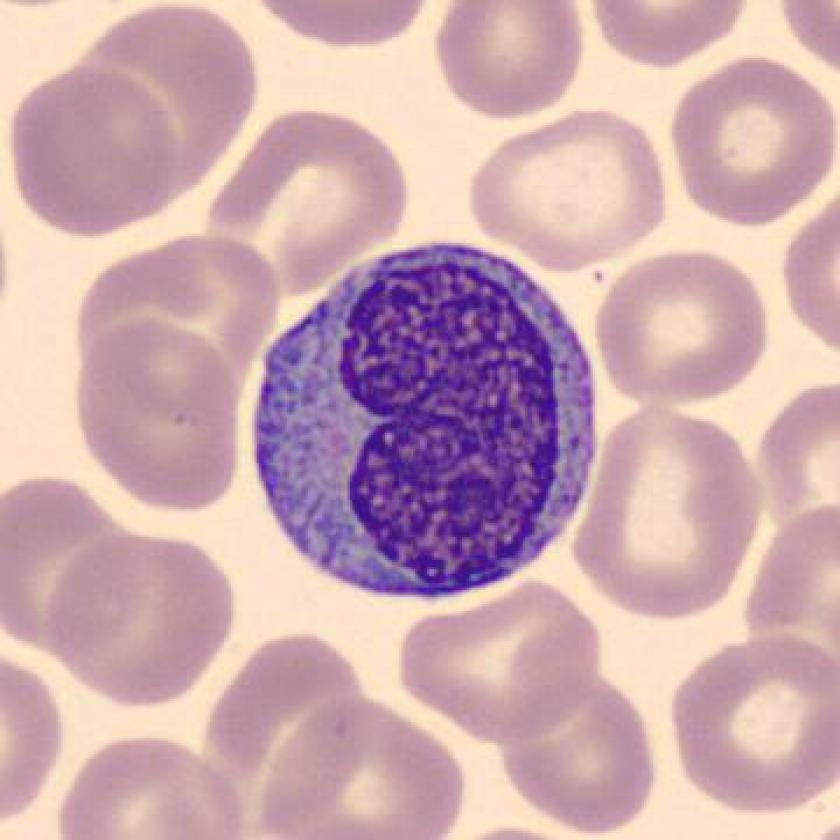monocyte: (225, 218, 624, 619)
